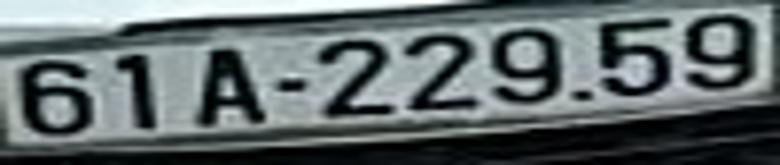-: (278, 79, 302, 92)
.: (574, 89, 590, 99)
1: (116, 52, 157, 130)
2: (405, 32, 477, 110), (321, 39, 390, 116)
5: (602, 19, 672, 95)
6: (20, 59, 92, 137)
9: (686, 14, 755, 87), (494, 30, 558, 104)
A: (196, 47, 264, 128)
